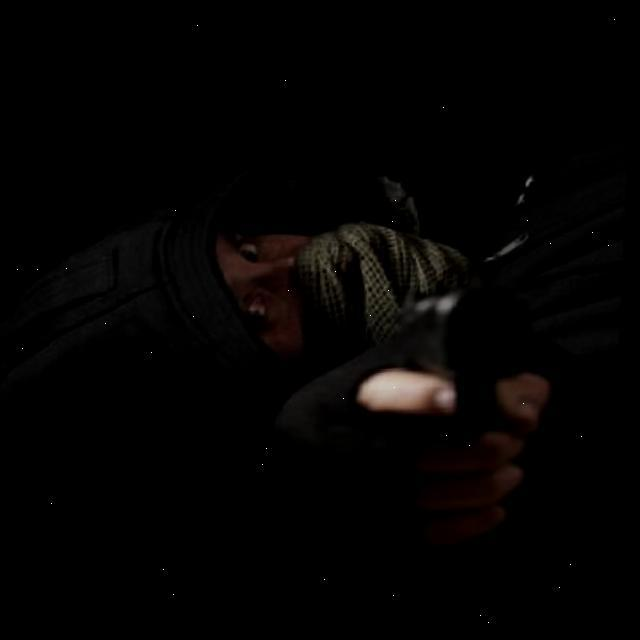gun: (389, 288, 535, 452)
